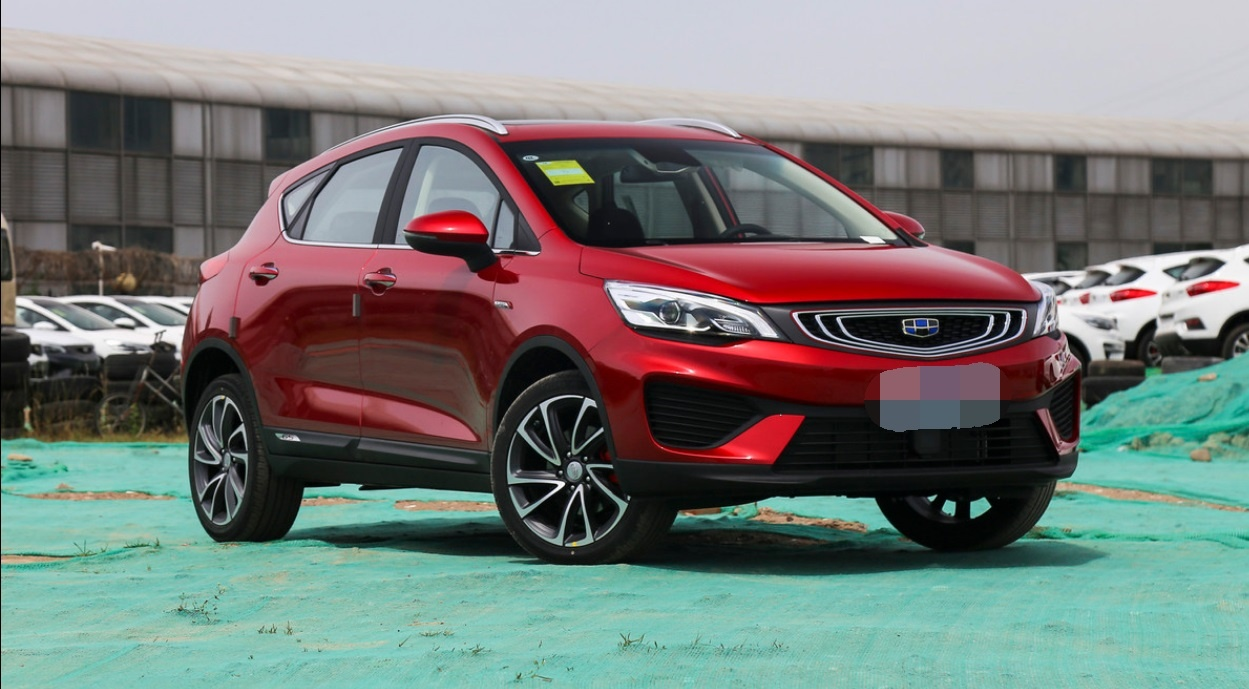SUV: (190, 92, 1097, 563)
